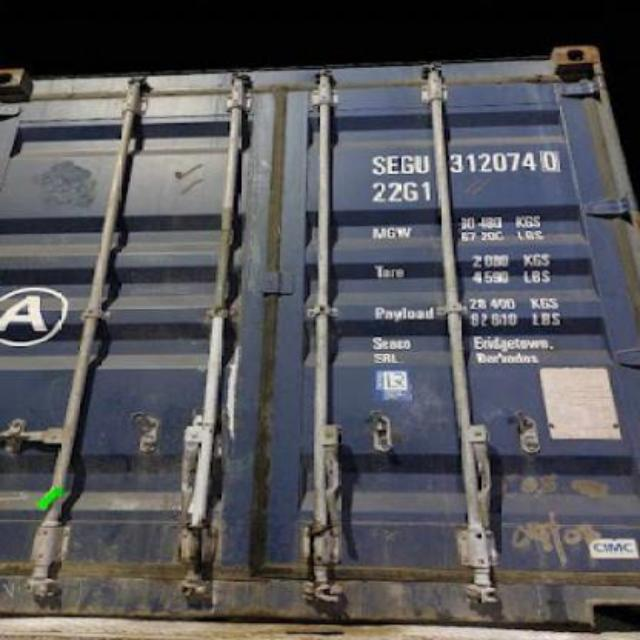0: (490, 148, 508, 176), (540, 148, 560, 172)
1: (462, 142, 478, 178)
2: (478, 146, 492, 174)
3: (448, 147, 464, 177)
4: (522, 146, 536, 178)
7: (506, 144, 522, 176)
E: (384, 151, 400, 177)
G: (398, 148, 412, 176)
S: (368, 150, 384, 177)
U: (414, 148, 432, 176)
